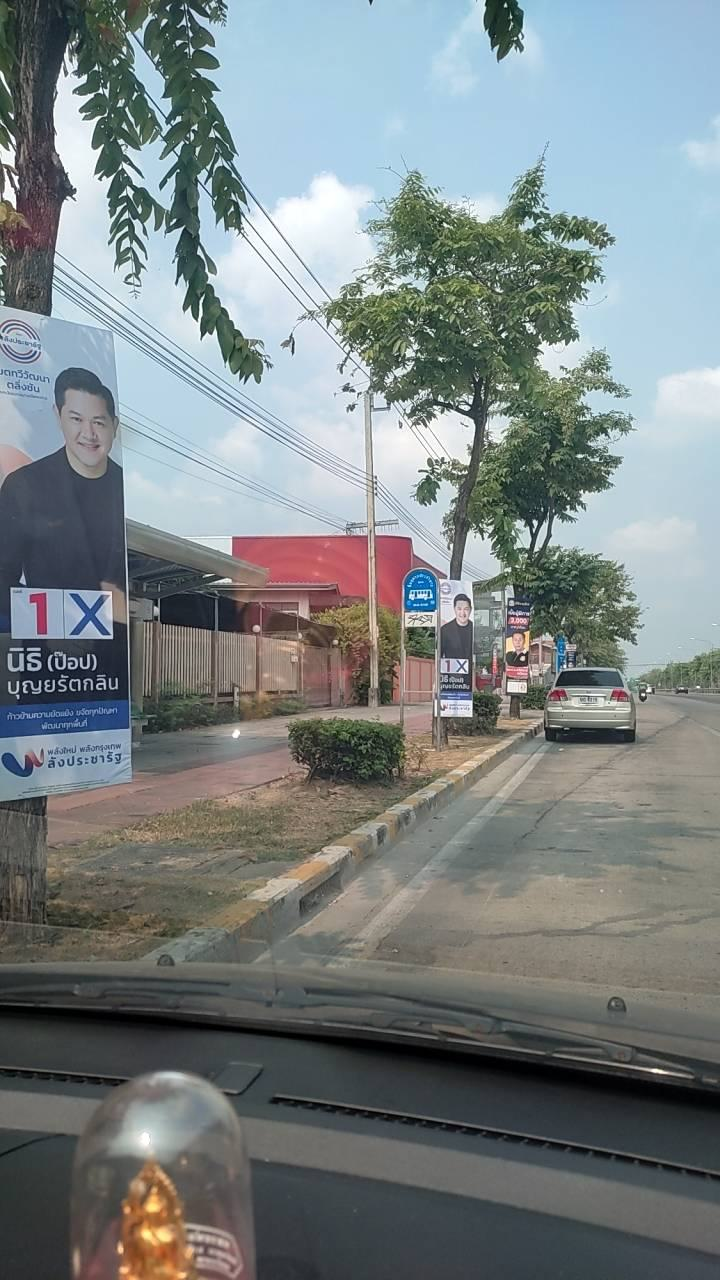Banner: (0, 312, 138, 795)
